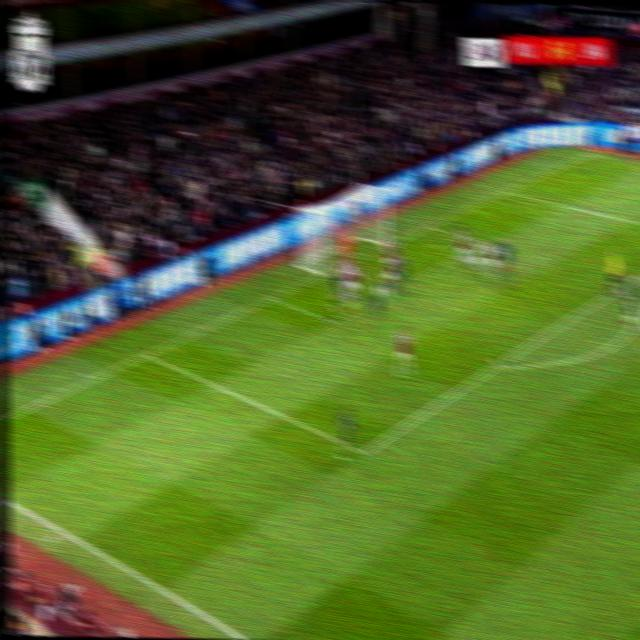bigarea_bottom_inner: (354, 444, 371, 461)
bigarea_bottom_outter: (140, 347, 155, 359)
bigarea_top_outter: (498, 186, 513, 195)
bottom_arc_area_intersection: (489, 357, 506, 373)
corner: (581, 148, 597, 156)
smallarea_bottom_inner: (324, 312, 340, 328)
smallarea_bottom_outter: (263, 291, 280, 303)
smallarea_top_outter: (422, 219, 437, 232)
top_arc_area_intersection: (611, 282, 622, 292)
